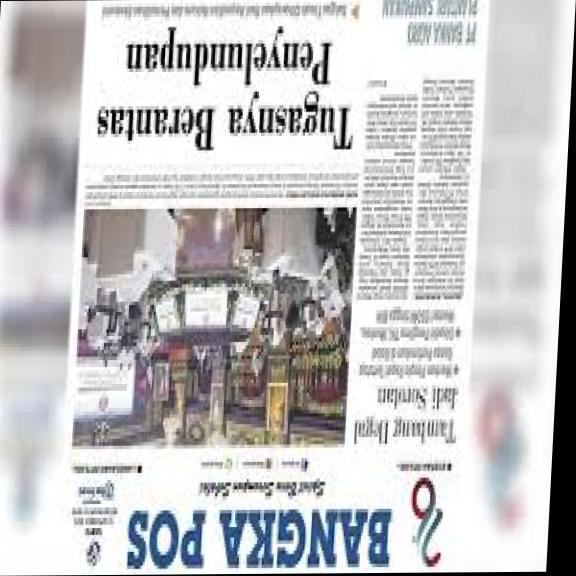Kertas: (50, 0, 489, 575)
